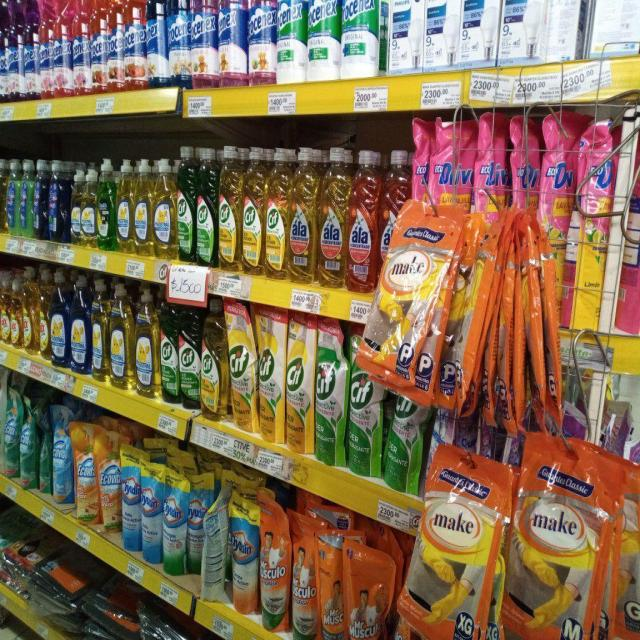ala_conc_amarillo: (318, 145, 347, 288), (290, 146, 316, 284)
ala_conc_rojo: (348, 148, 378, 292), (379, 148, 404, 292)
cif_conc_bot_amarilla: (201, 297, 227, 422), (218, 145, 242, 271), (266, 147, 288, 280), (243, 146, 265, 275), (0, 272, 10, 344)
cif_conc_botella_verde: (196, 145, 217, 268), (179, 294, 200, 410), (177, 144, 196, 263), (160, 290, 178, 404)
cif_conc_sachet_amarillo: (286, 311, 314, 455), (228, 298, 257, 432), (258, 304, 285, 444)
cif_conc_sachet_verde: (315, 318, 346, 467), (348, 363, 381, 477), (386, 392, 422, 492)
magistral_con_amarillo: (134, 285, 158, 399), (109, 282, 133, 390), (154, 156, 176, 260), (134, 158, 153, 258), (115, 157, 134, 254), (92, 278, 109, 382), (82, 165, 97, 248), (39, 269, 50, 359), (70, 165, 82, 245)
magistral_con_azul: (70, 273, 90, 375), (50, 269, 69, 367)
